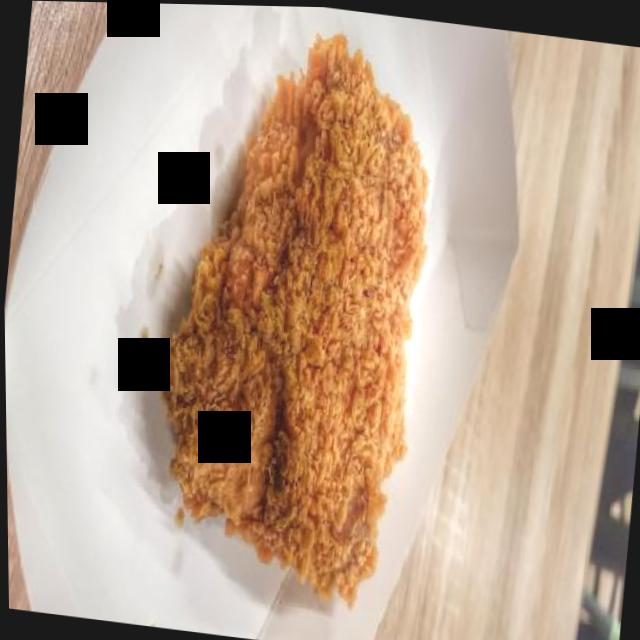Frango: (132, 18, 449, 613)
